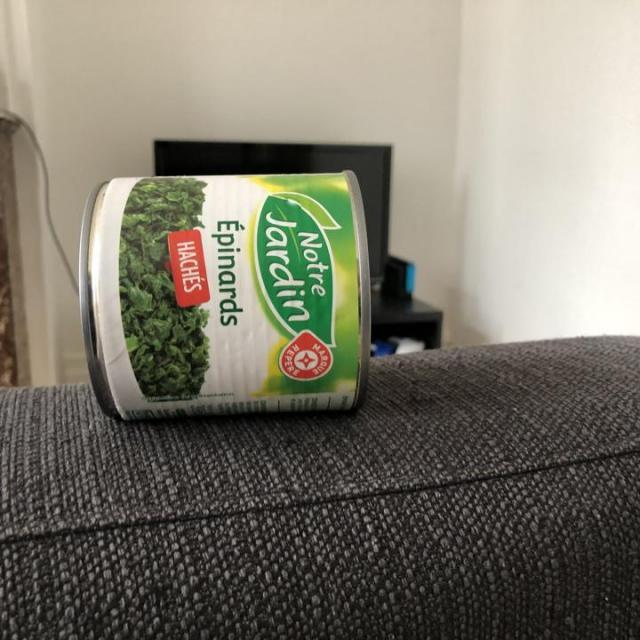recyclable: (74, 157, 373, 434)
